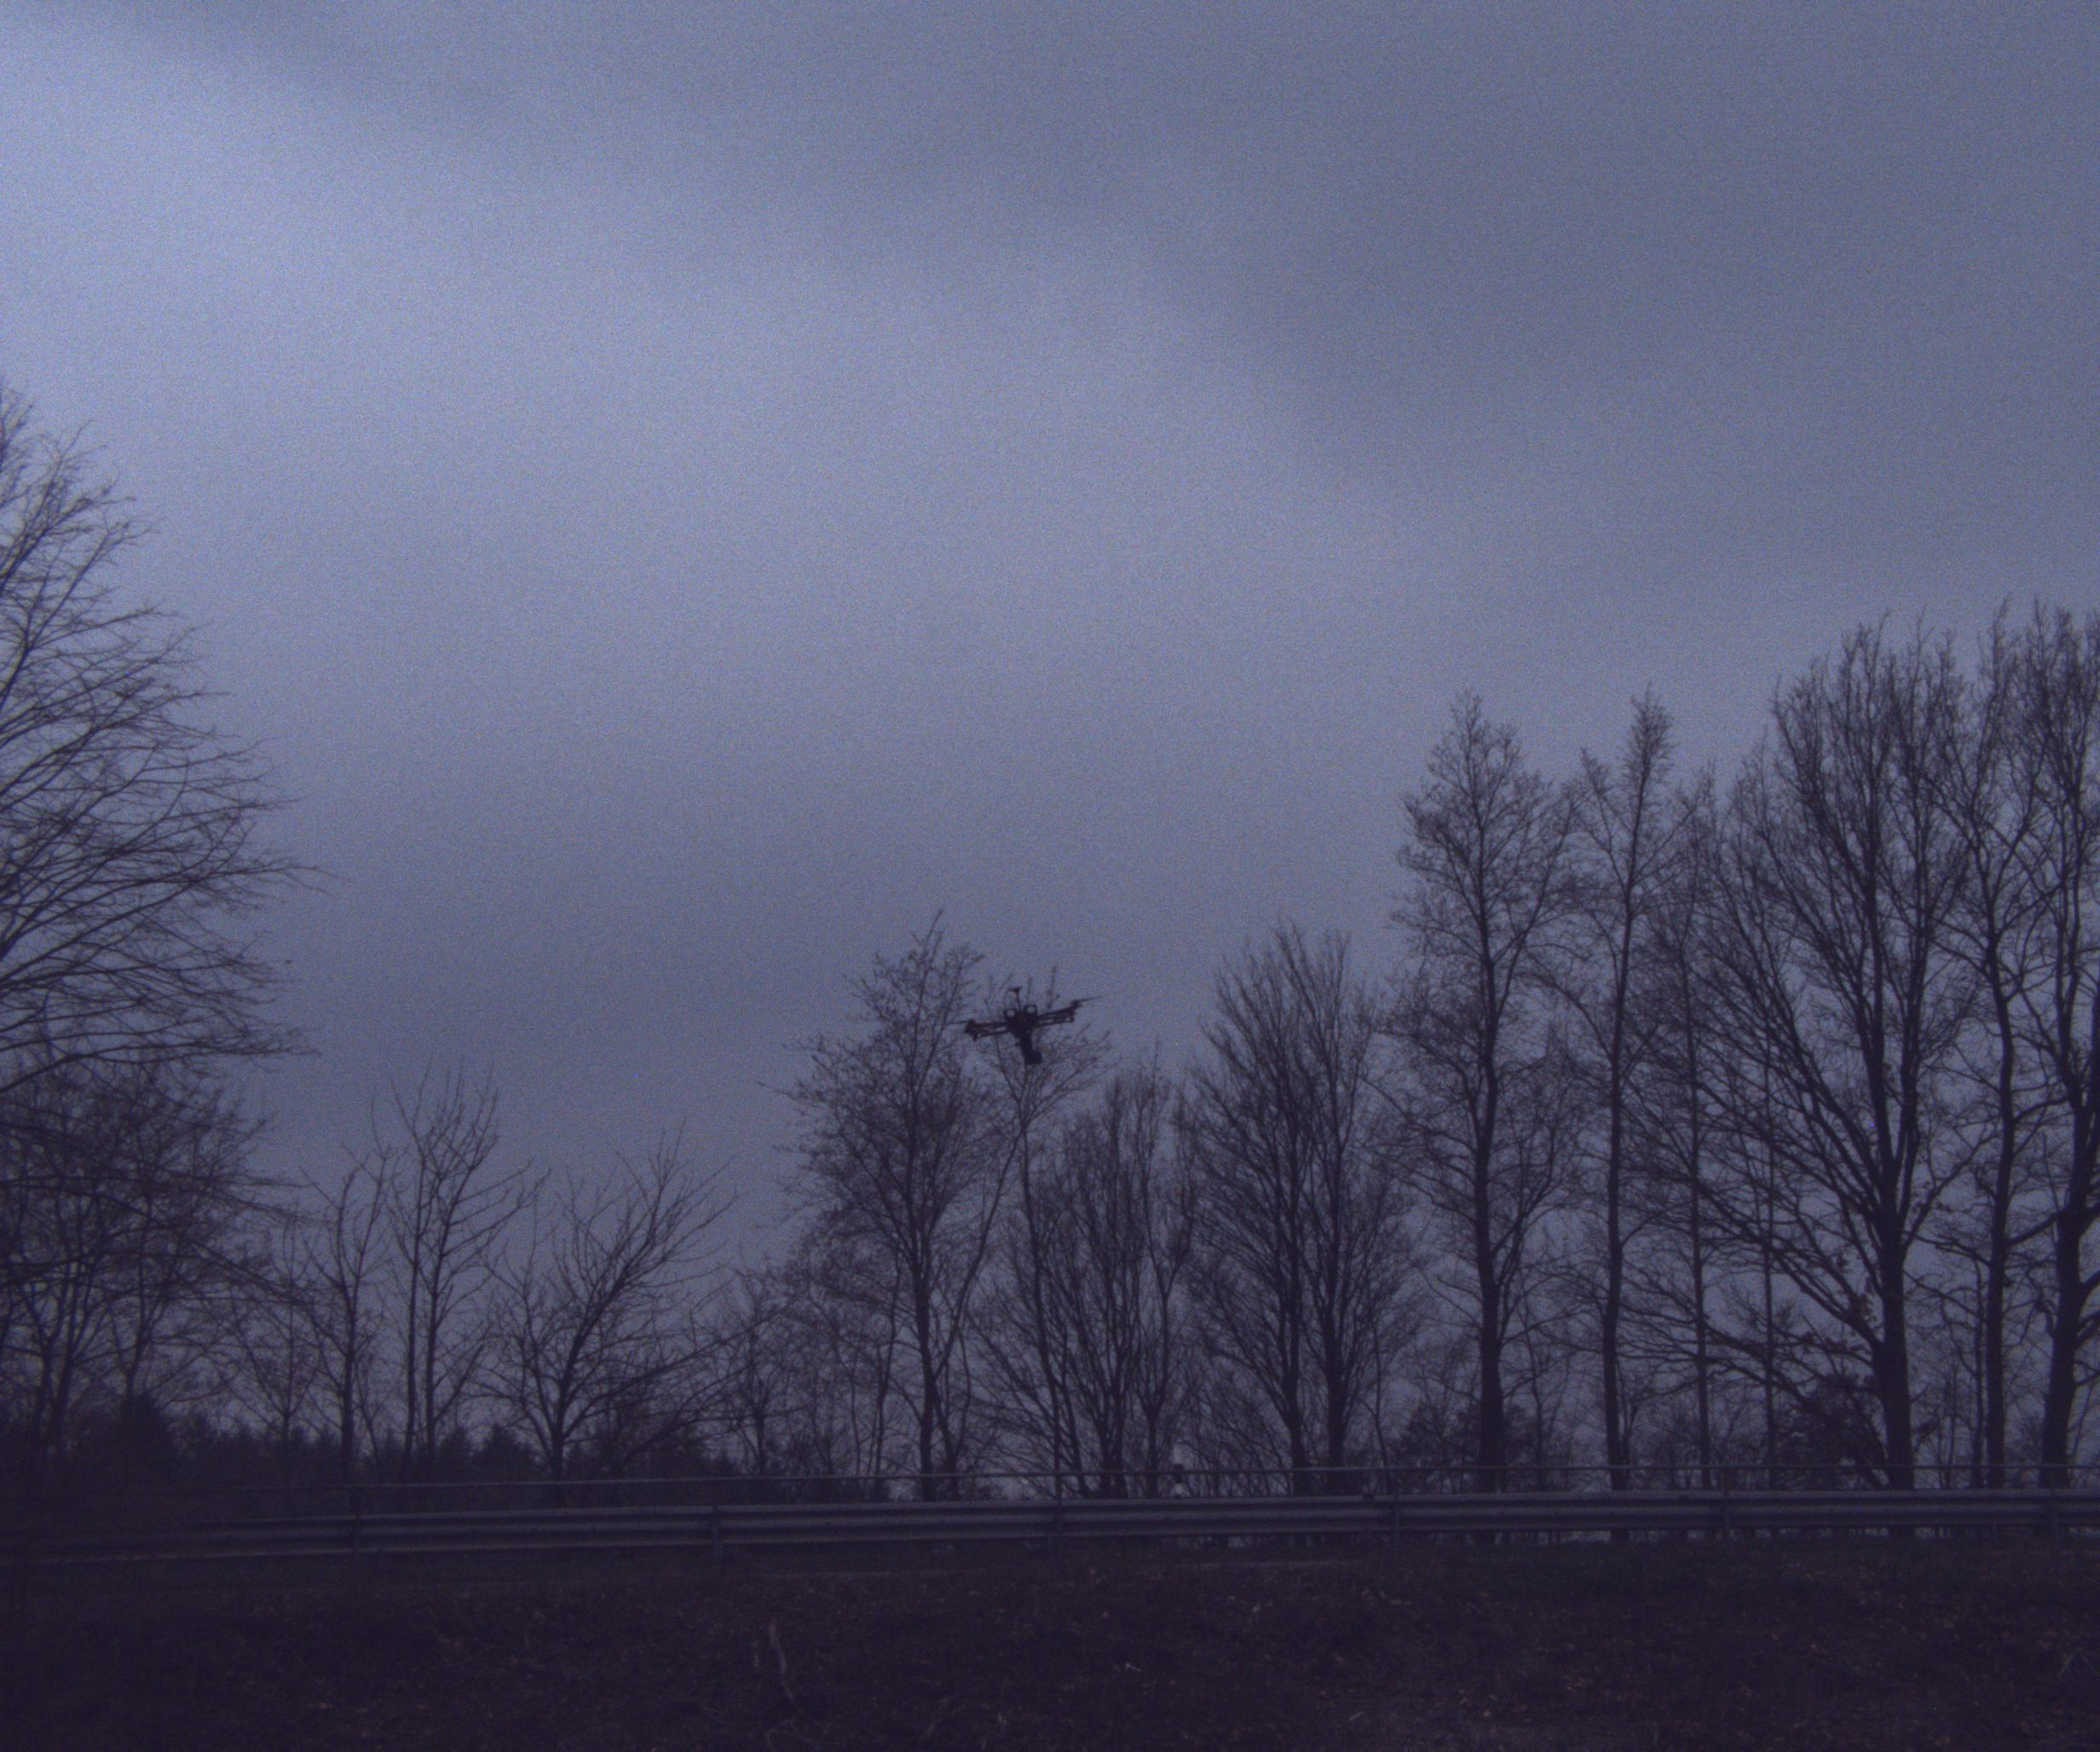Drohne: (926, 969, 1160, 1112)
